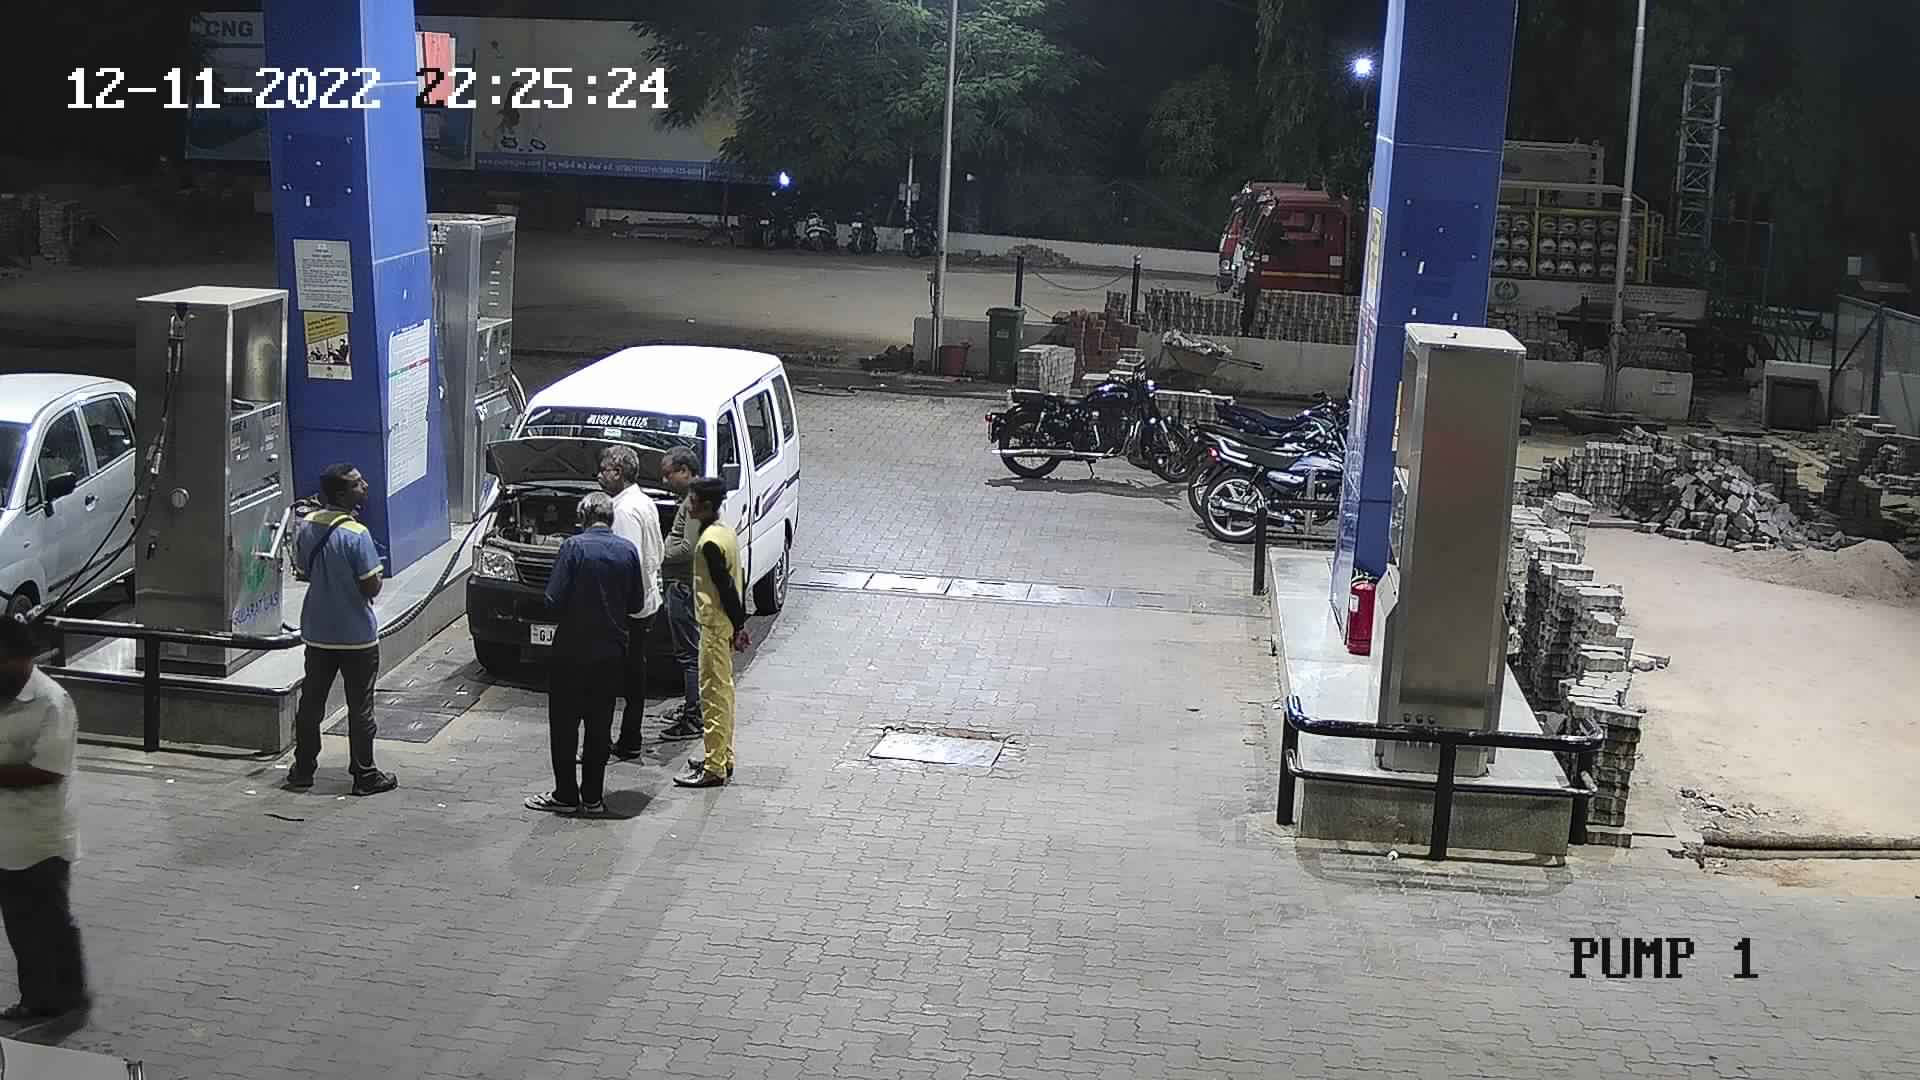Bike: (1174, 372, 1361, 559), (978, 357, 1203, 495), (738, 185, 806, 251), (891, 194, 945, 264), (802, 186, 851, 253), (845, 187, 886, 264)
Car: (458, 323, 808, 694), (0, 351, 179, 669)
HMV: (1203, 146, 1385, 287), (1226, 182, 1378, 338)
Others: (287, 458, 406, 803)
